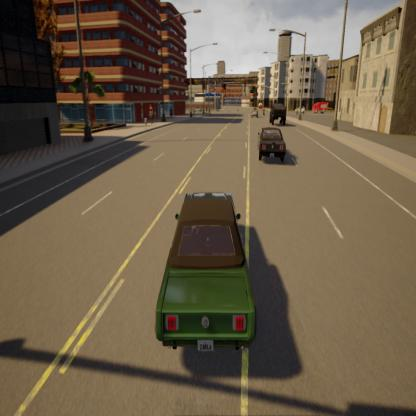Cars: (153, 160, 256, 395), (252, 111, 296, 184), (267, 96, 289, 128), (310, 92, 330, 117), (294, 99, 305, 118), (250, 104, 259, 119)
Pedestrian: (261, 104, 266, 119)
